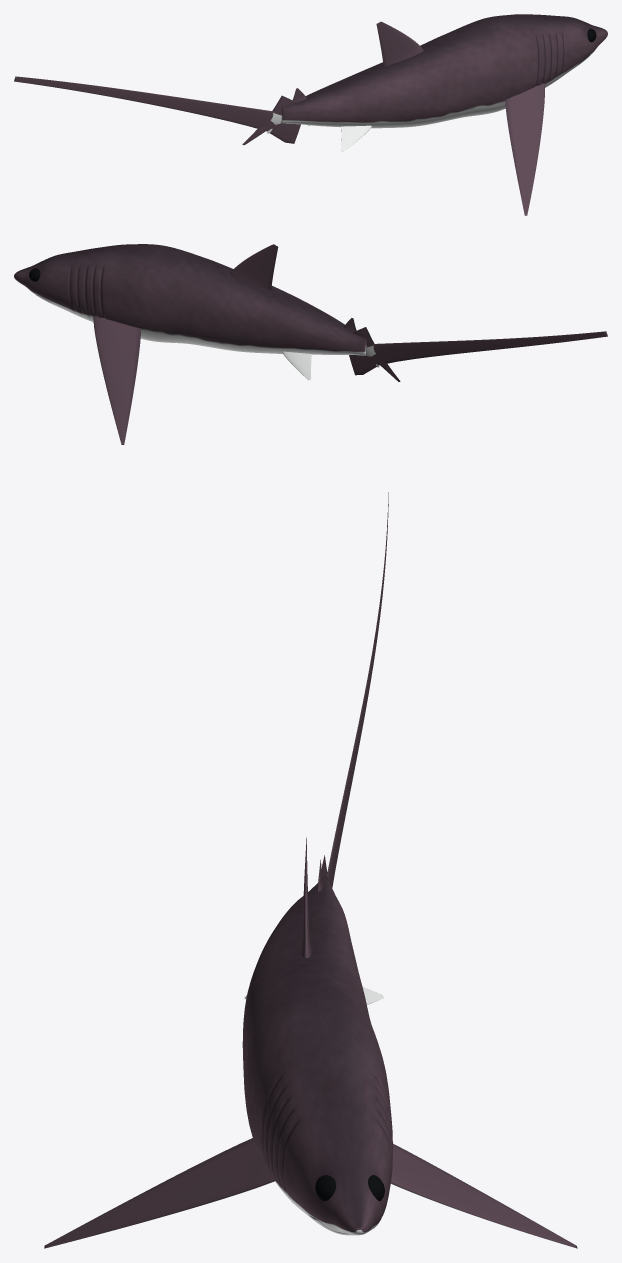
Rendered from bigeye_thresher.glb.
The picture shows the model from 3 angles, top to bottom: view 1: azimuth 30°, elevation 25°; view 2: azimuth 150°, elevation 25°; view 3: azimuth 270°, elevation 25°; orthographic projection. The views are drawn at different scales.
Visible parts, largest first — view 1: BigeyeThresher_Body, BigeyeThresher_Fins; view 2: BigeyeThresher_Body, BigeyeThresher_Fins; view 3: BigeyeThresher_Body, BigeyeThresher_Fins.
Part boxes in pixels (x1,y1,x2,y2): BigeyeThresher_Body: [281, 14, 607, 128]; BigeyeThresher_Fins: [14, 21, 544, 215]; BigeyeThresher_Body: [14, 244, 366, 355]; BigeyeThresher_Fins: [93, 244, 607, 444]; BigeyeThresher_Body: [242, 877, 392, 1235]; BigeyeThresher_Fins: [44, 492, 577, 1248].
Size of the model in its own units: 3.5 by 1.03 by 1.38.
Materials: 3 (1 with a texture image).
